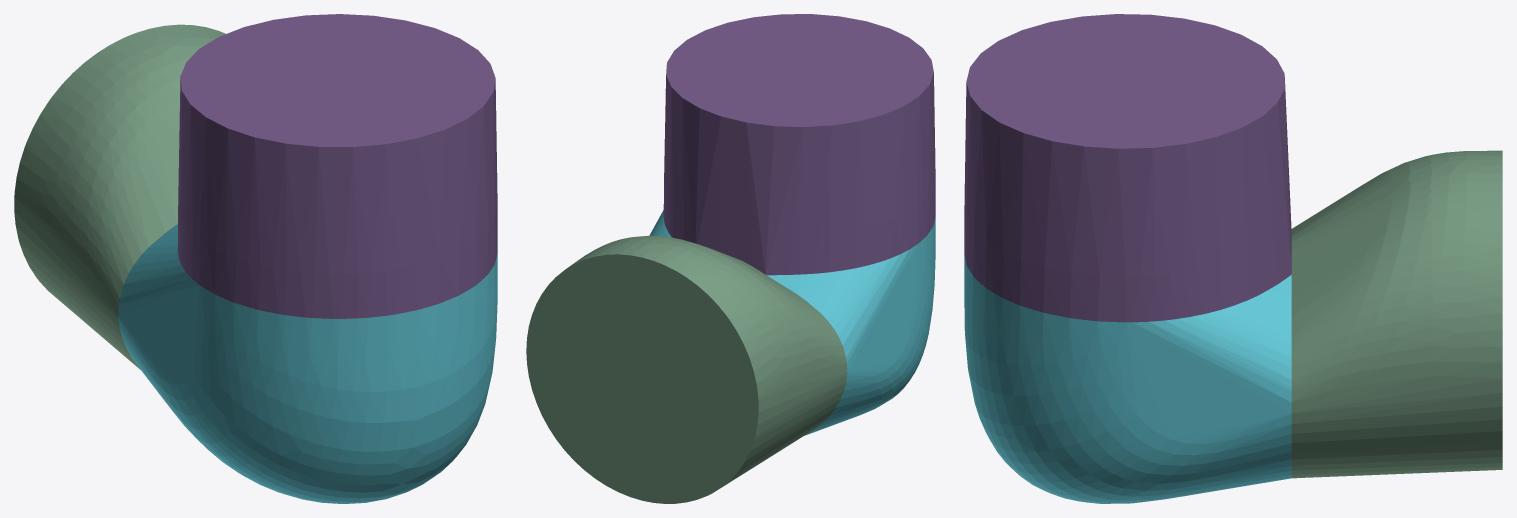
3 views of the same model, side by side, from view 1: azimuth 30°, elevation 25°; view 2: azimuth 150°, elevation 25°; view 3: azimuth 270°, elevation 25° (orthographic). The views are drawn at different scales.
Visible parts, largest first — view 1: geometry_1, geometry_2, geometry_0; view 2: geometry_0, geometry_1, geometry_2; view 3: geometry_1, geometry_0, geometry_2.
Part boxes in pixels (left/top/right/bottom): geometry_1: left=177, top=14, right=497, bottom=318; geometry_2: left=118, top=224, right=497, bottom=503; geometry_0: left=14, top=24, right=225, bottom=369; geometry_0: left=526, top=235, right=847, bottom=503; geometry_1: left=663, top=14, right=935, bottom=275; geometry_2: left=649, top=210, right=935, bottom=435; geometry_1: left=964, top=14, right=1291, bottom=322; geometry_0: left=1291, top=150, right=1502, bottom=478; geometry_2: left=964, top=255, right=1291, bottom=503.
Bounding box in the file's own units: 0.0968 × 0.1318 × 0.1601.
